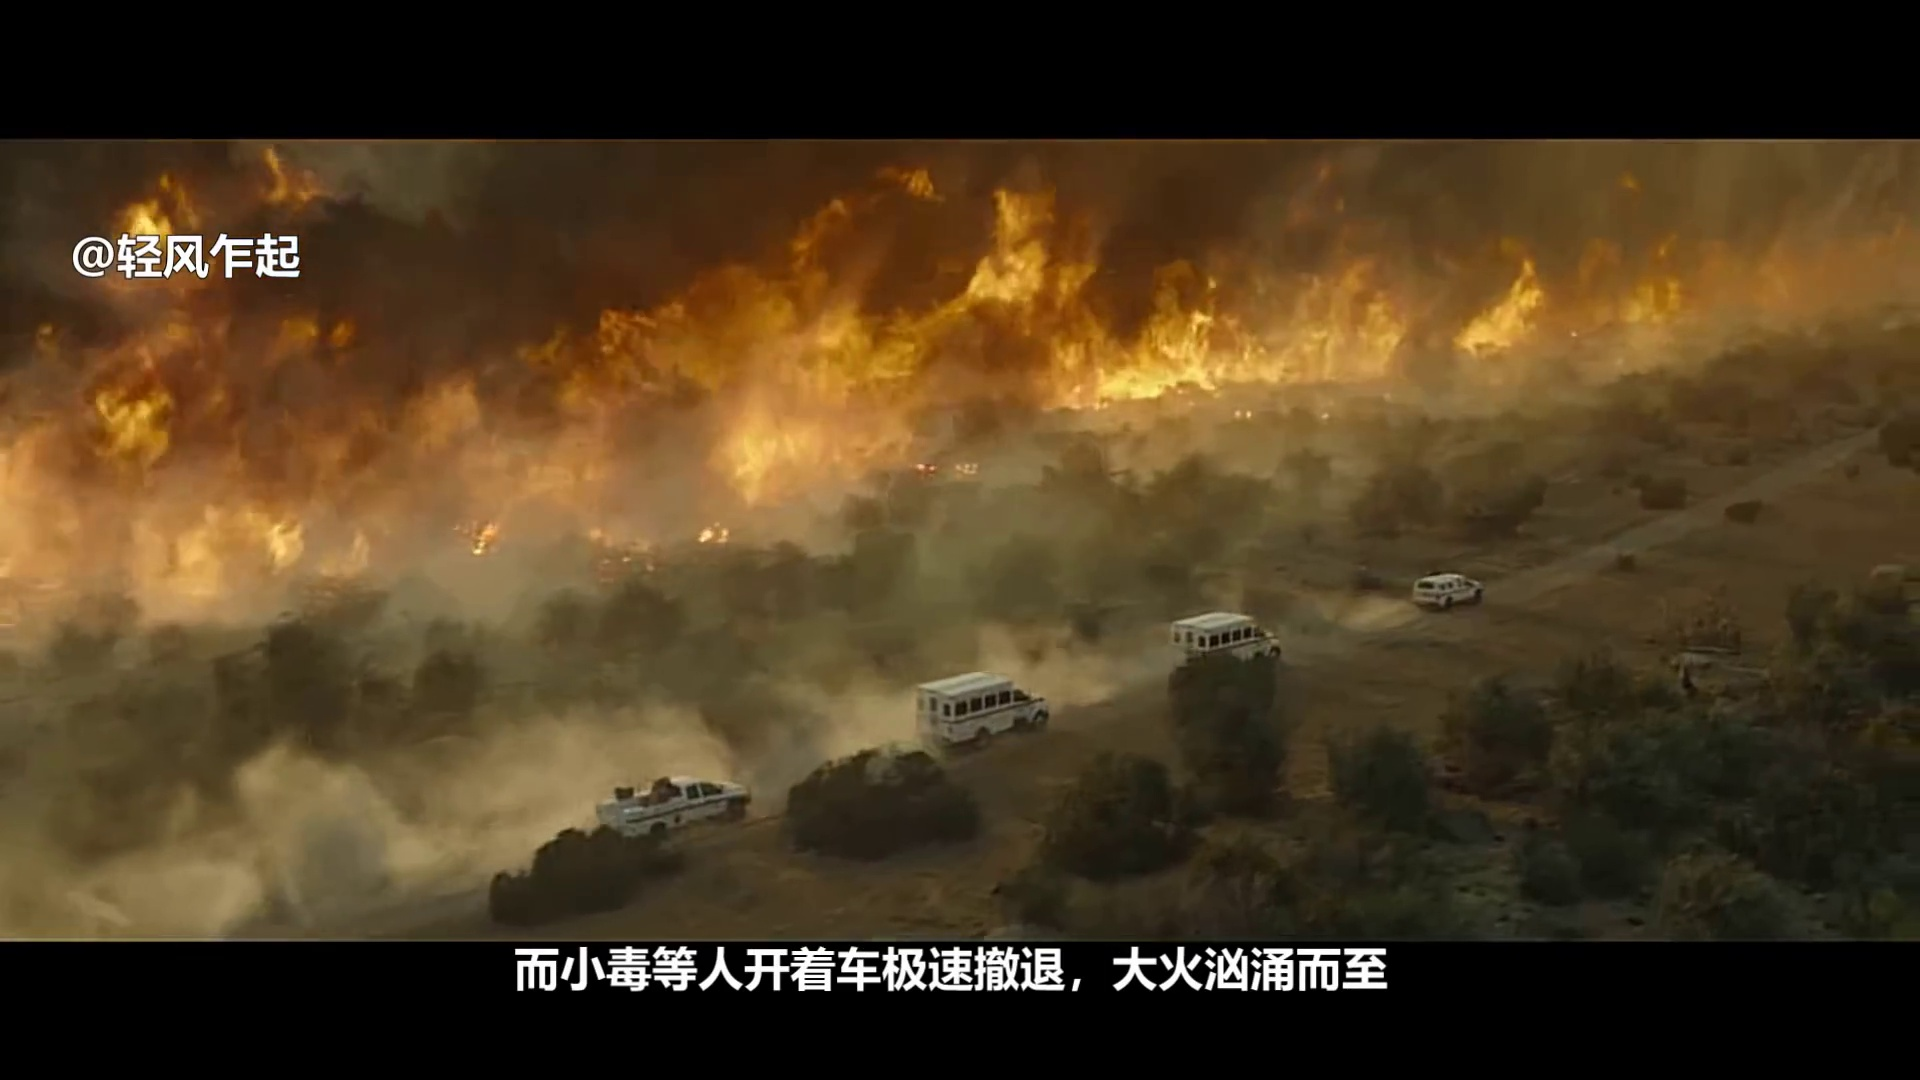fire: (1085, 277, 1387, 400), (971, 196, 1058, 295), (1469, 270, 1540, 345)
